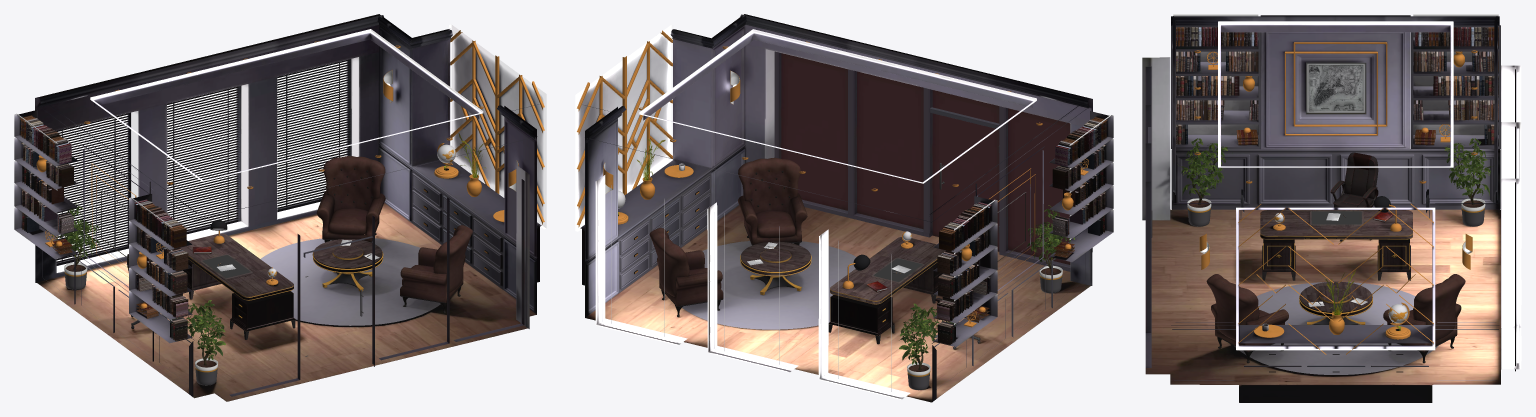
File: model.original.glb
3 renders of one model, left to right at view 1: azimuth 30°, elevation 25°; view 2: azimuth 150°, elevation 25°; view 3: azimuth 270°, elevation 25°, orthographic. The views are drawn at different scales.
Parts seen in each view (by area): view 1: walls, Cube.018, Cube.019, Plane, Back_low.003, Cube.004, walls.001, Cube.007, Cube.036, pachira_aquatica_01_bark_c.002, Cube.006, Cube.010 (+5 smaller); view 2: walls, Cube.019, Back_low.003, Plane, Cube.004, walls.001, Cube.007, Cube.036, pachira_aquatica_01_bark_c.002, Cube.006, Cube.010, Cube.002 (+5 smaller); view 3: walls, Cube.012, Cube.004, Cube.019, Plane, Back_low.003, pachira_aquatica_01_bark_c.002, Cube.036, walls.001, paintings, Cube.010, Cube.002 (+8 smaller).
Part boxes in pixels (x1=…): walls: x1=35, y1=14, x2=546, y2=401; Cube.018: x1=56, y1=59, x2=349, y2=265; Cube.019: x1=19, y1=115, x2=188, y2=340; Plane: x1=260, y1=238, x2=440, y2=325; Back_low.003: x1=316, y1=156, x2=472, y2=313; Cube.004: x1=14, y1=110, x2=192, y2=343; walls.001: x1=39, y1=15, x2=538, y2=220; Cube.007: x1=412, y1=173, x2=501, y2=285; Cube.036: x1=180, y1=233, x2=293, y2=300; pachira_aquatica_01_bark_c.002: x1=52, y1=203, x2=225, y2=385; Cube.006: x1=450, y1=30, x2=544, y2=224; Cube.010: x1=412, y1=159, x2=539, y2=289; walls: x1=575, y1=14, x2=1092, y2=402; Cube.019: x1=937, y1=117, x2=1107, y2=345; Back_low.003: x1=649, y1=157, x2=807, y2=317; Plane: x1=682, y1=241, x2=856, y2=329; Cube.004: x1=933, y1=111, x2=1113, y2=346; walls.001: x1=582, y1=14, x2=1089, y2=222; Cube.007: x1=620, y1=175, x2=710, y2=289; Cube.036: x1=830, y1=237, x2=945, y2=304; pachira_aquatica_01_bark_c.002: x1=899, y1=205, x2=1074, y2=389; Cube.006: x1=577, y1=30, x2=672, y2=227; Cube.010: x1=582, y1=159, x2=710, y2=292; Cube.002: x1=828, y1=263, x2=942, y2=344; walls: x1=1142, y1=15, x2=1521, y2=402; Cube.012: x1=1171, y1=149, x2=1500, y2=209; Cube.004: x1=1171, y1=14, x2=1500, y2=148; Cube.019: x1=1176, y1=27, x2=1498, y2=145; Plane: x1=1234, y1=282, x2=1438, y2=374; Back_low.003: x1=1206, y1=274, x2=1465, y2=363; pachira_aquatica_01_bark_c.002: x1=1177, y1=138, x2=1493, y2=226; Cube.036: x1=1260, y1=210, x2=1412, y2=239; walls.001: x1=1171, y1=16, x2=1499, y2=218; paintings: x1=1306, y1=62, x2=1366, y2=114; Cube.010: x1=1239, y1=325, x2=1432, y2=343; Cube.002: x1=1262, y1=239, x2=1410, y2=280.
Bounding box in the file's own units: 8.64 × 3.98 × 6.65.
4 materials, 4 textured.
